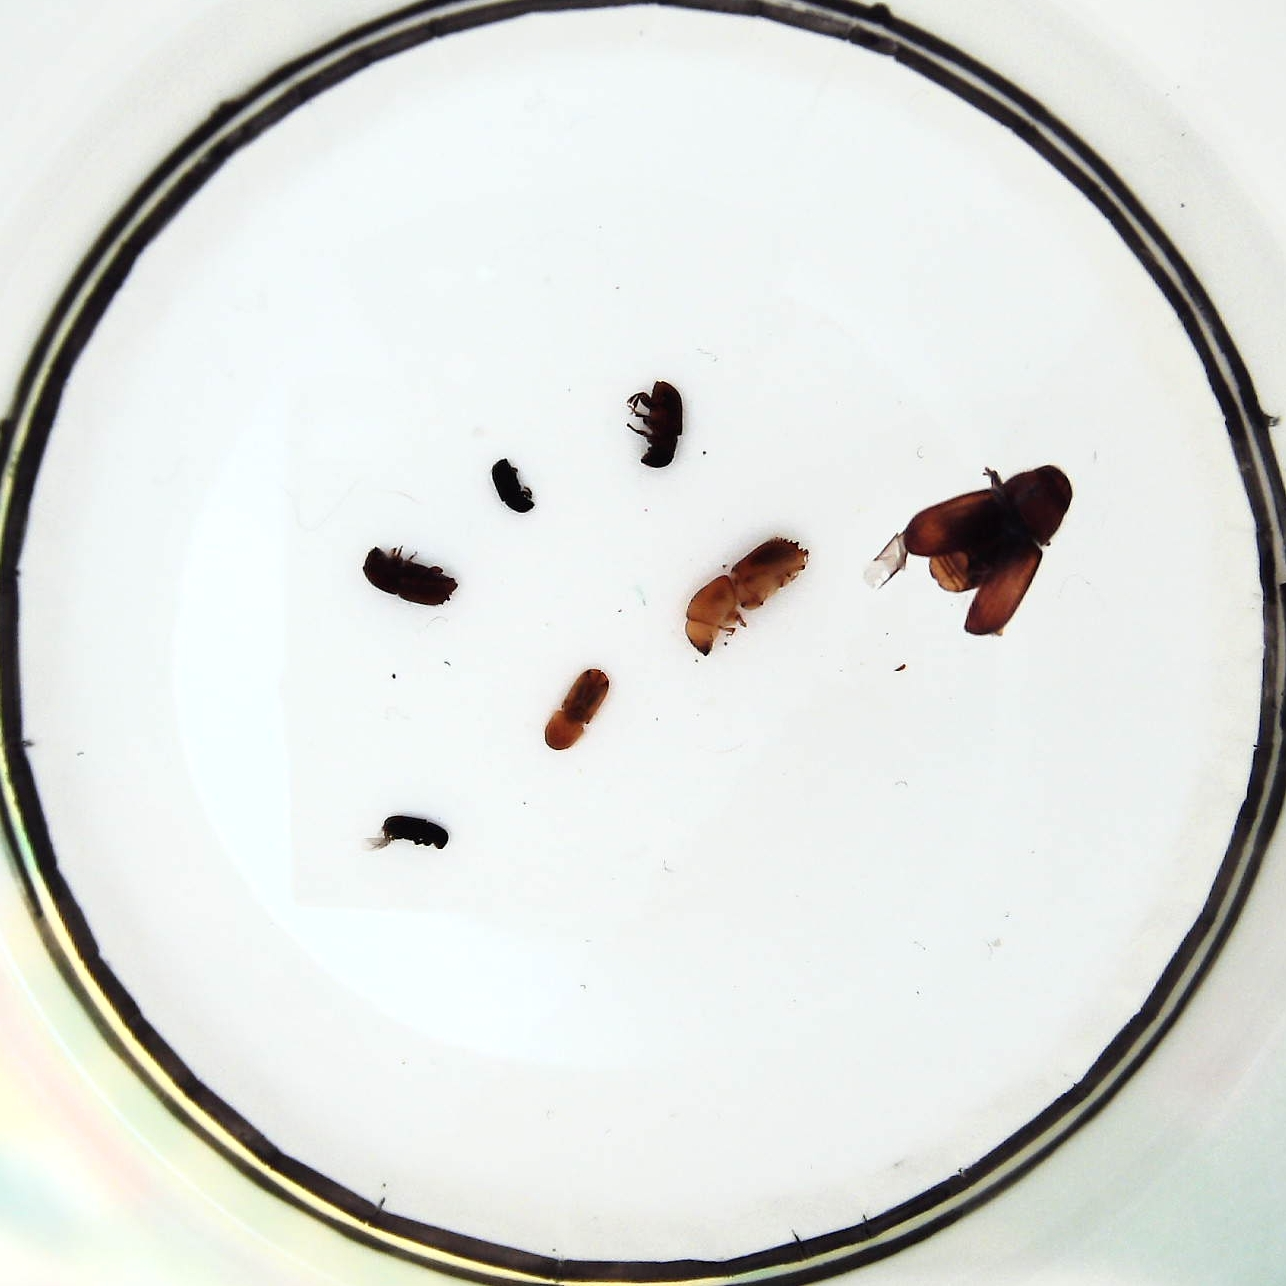Boerner: (683, 539, 807, 654)
Leconte: (908, 464, 1070, 634)
Linnaeus: (362, 548, 456, 610)
acuminatus: (546, 670, 608, 751)
armandi: (632, 380, 682, 466)
coleoptera: (380, 813, 450, 849), (489, 457, 532, 513)
